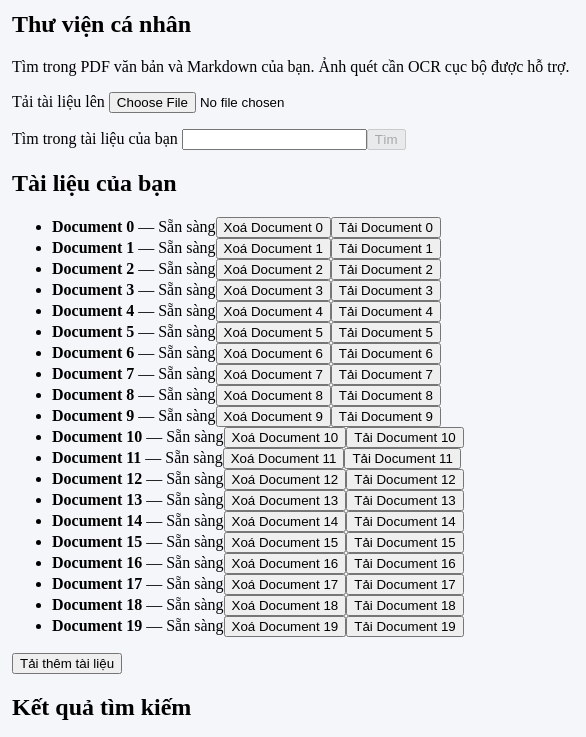
Test: keeps all 21 documents manageable across pagination, refresh and context reset
This screenshot has width=586, height=737.
Expected: the text "Document 0" is shown, [52,218,134,235]
Expected: the text "Document 20" is not shown
Click the button "Tải thêm tài liệu" at (67, 663), box [12,653,122,674]
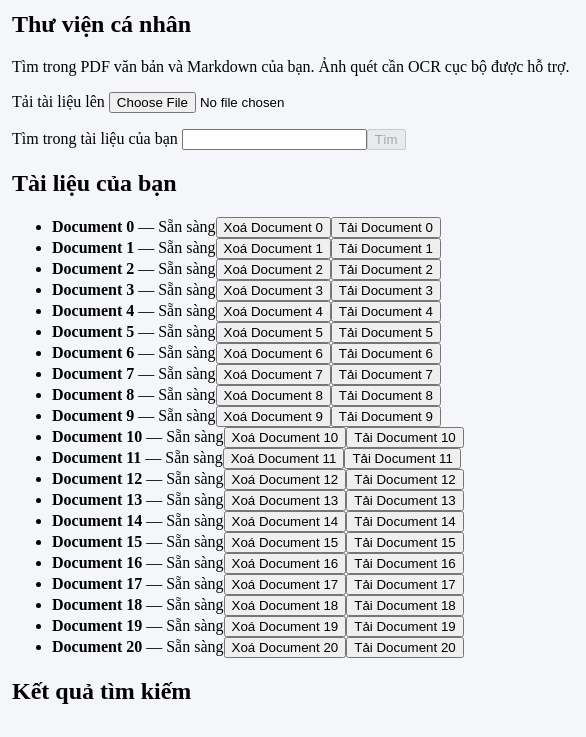
Result: the button "Xoá Document 20" is shown at [224,637,346,658]
Result: the text "Document 20" is shown at [52,638,142,655]
